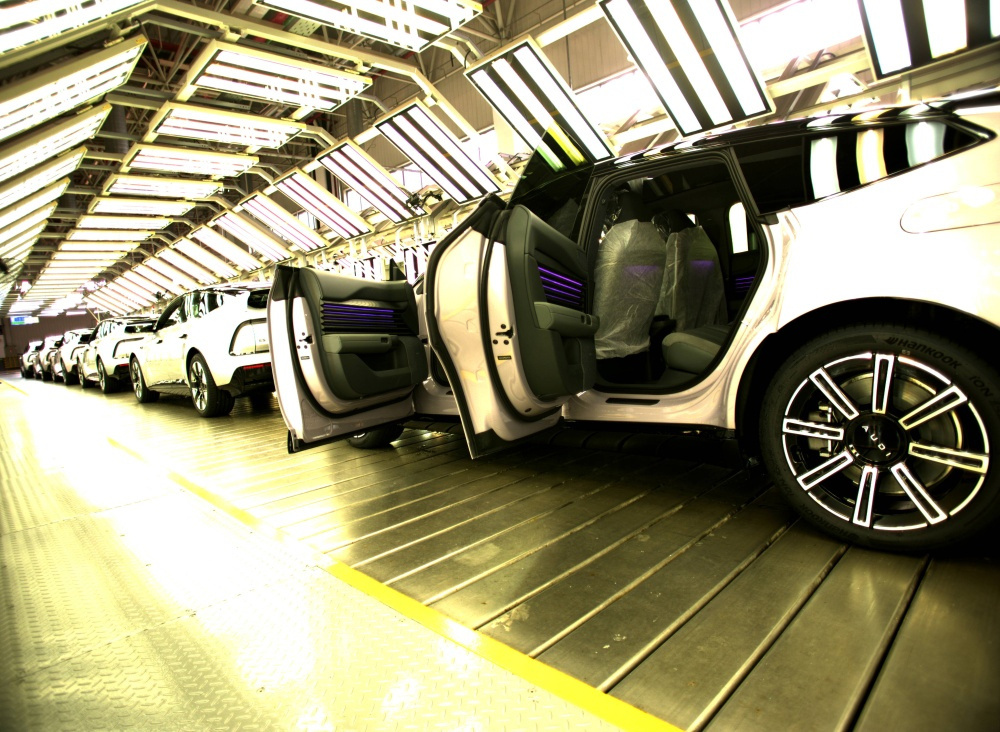armrest_color: (532, 300, 602, 337), (325, 334, 400, 358)
panel_color: (534, 258, 588, 312), (321, 299, 406, 333)
